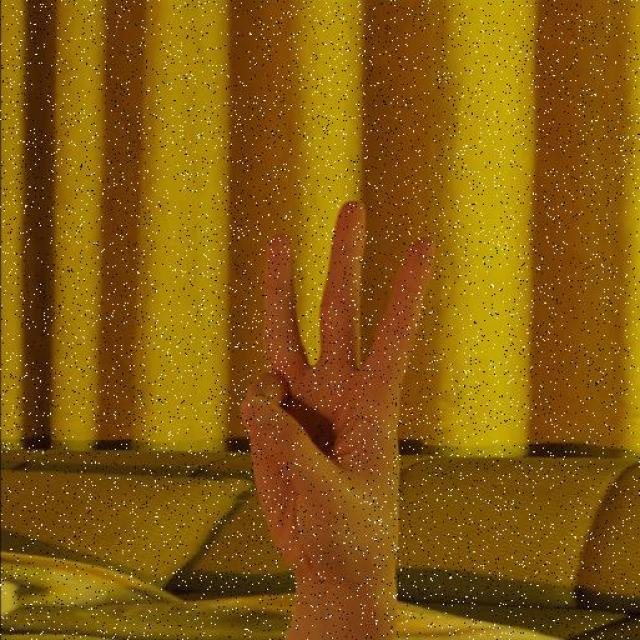W: (234, 193, 443, 591)
